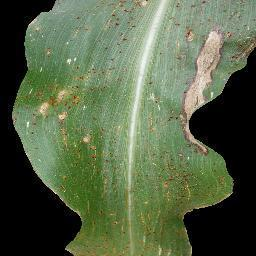Corn_Common_Rust: (18, 148, 244, 256), (138, 72, 247, 160), (25, 0, 145, 77), (146, 3, 256, 78), (7, 79, 124, 142)
